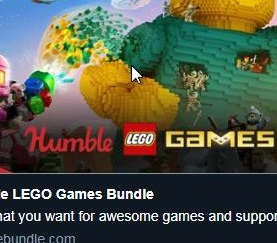cursor: (129, 64, 143, 85)
